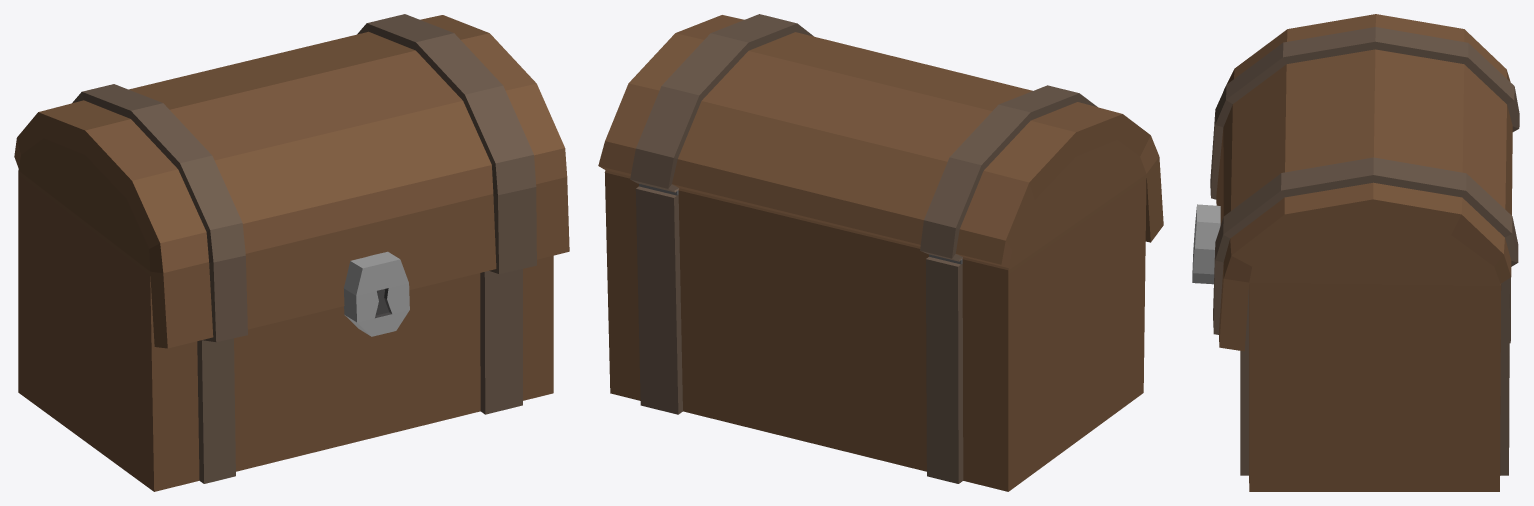
Rendered from Chest_3.fbx.
3 views of the same model, side by side, from view 1: azimuth 30°, elevation 25°; view 2: azimuth 150°, elevation 25°; view 3: azimuth 270°, elevation 25° (orthographic). The views are drawn at different scales.
Visible parts, largest first — view 1: Chest_3; view 2: Chest_3; view 3: Chest_3.
Part boxes in pixels (bbox=[...]): Chest_3: bbox=[14, 14, 569, 491]; Chest_3: bbox=[598, 14, 1163, 491]; Chest_3: bbox=[1192, 14, 1519, 491].
Size of the model in its own units: 30.47 by 22.36 by 22.73.
